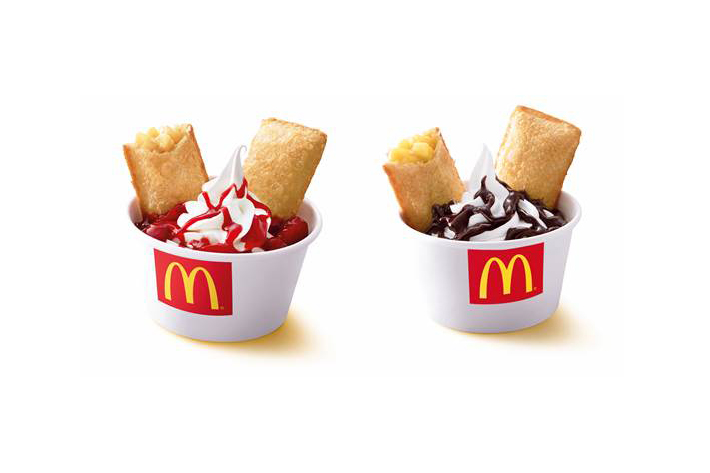mcdonalds: (156, 254, 233, 325), (475, 250, 538, 300)
